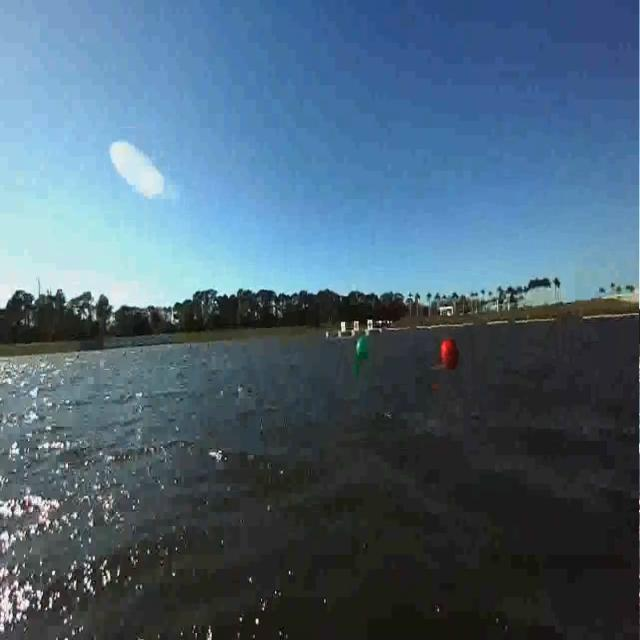green-buoy: (353, 332, 374, 368)
red-buoy: (438, 331, 459, 374)
